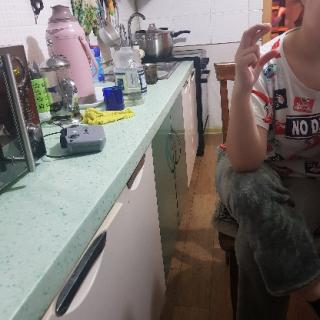DHELL: (226, 17, 281, 90)
